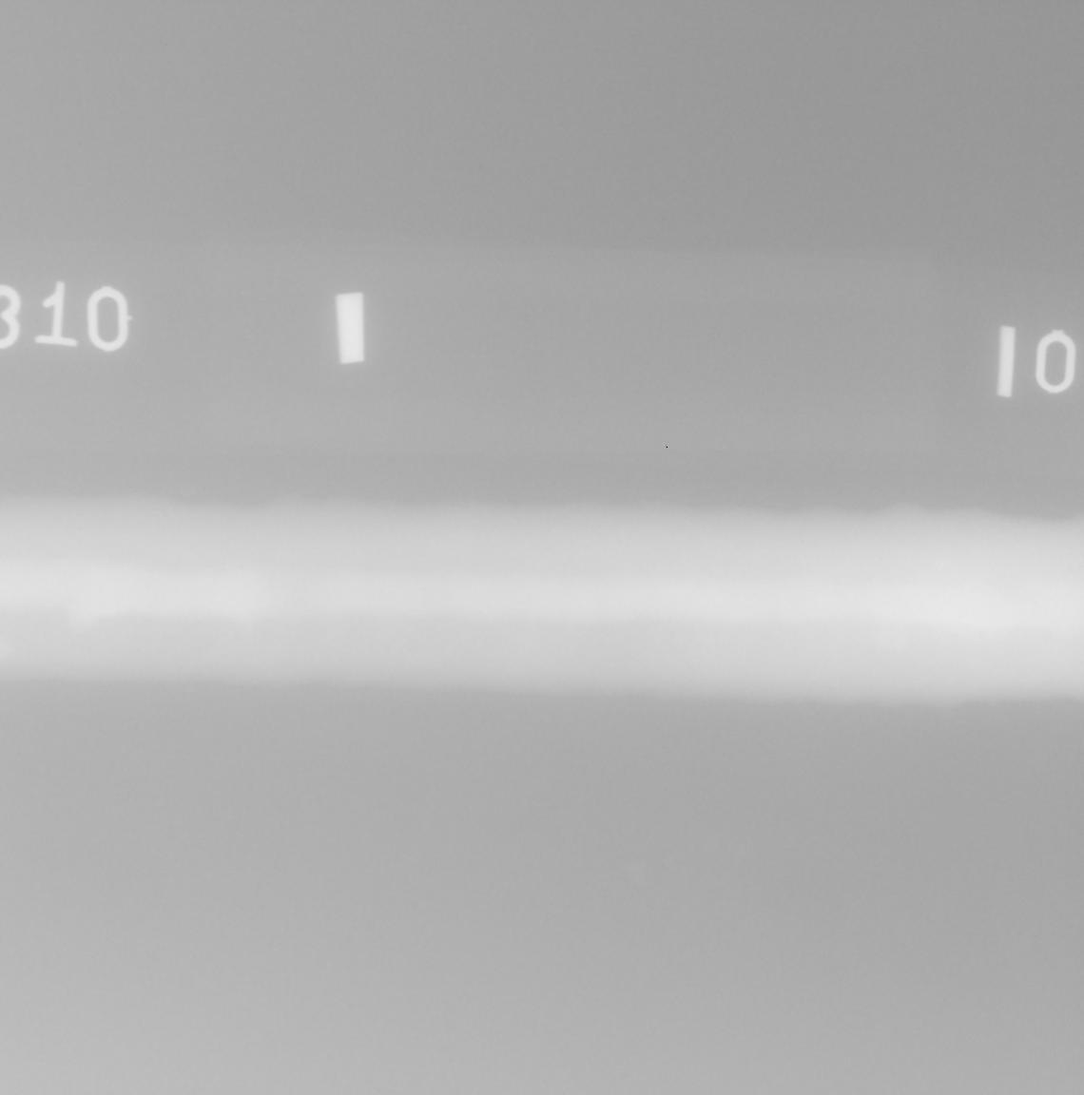Pore/Porosity: (979, 632, 985, 639)
